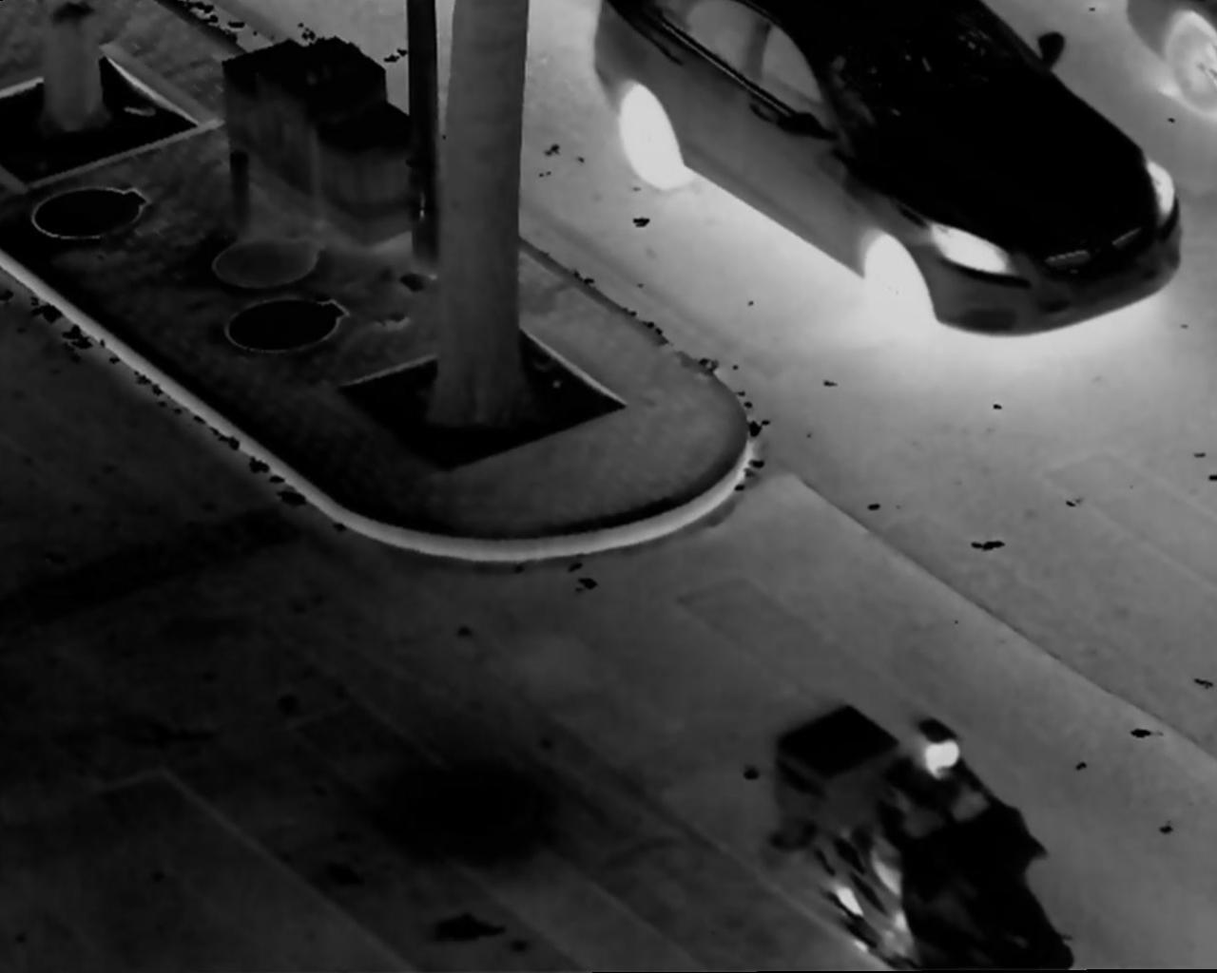person: (878, 719, 1013, 973)
